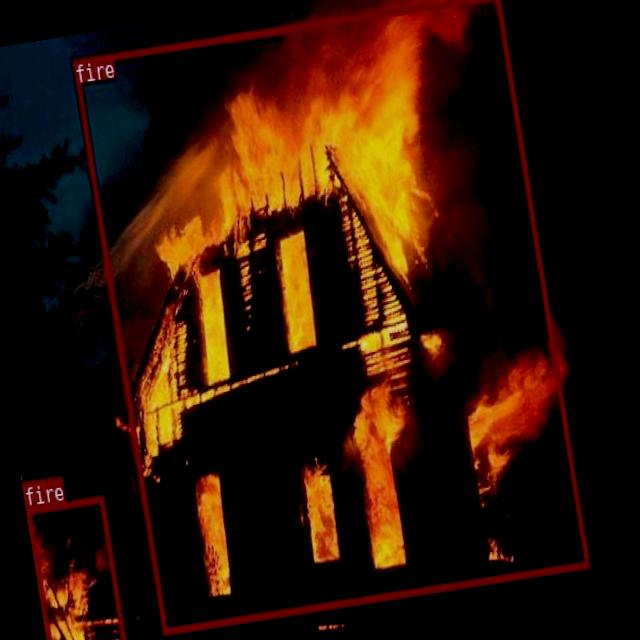fire: (72, 0, 589, 633), (25, 494, 126, 640)
